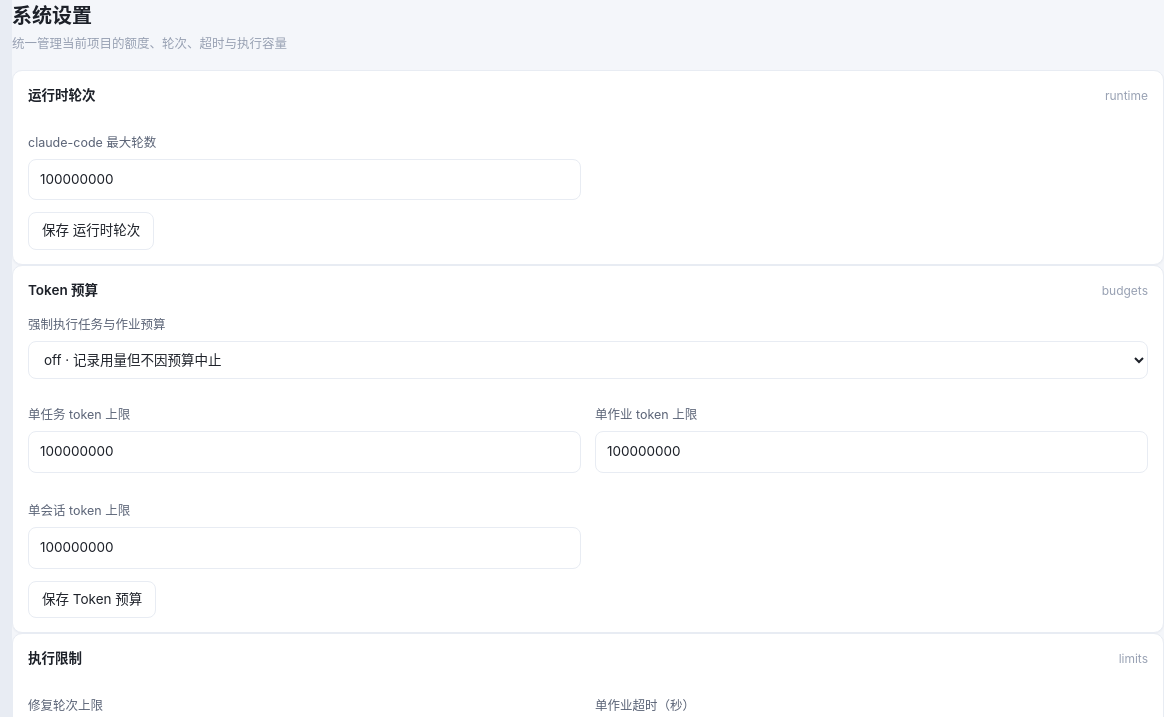
Scenario: 系统设置页 › keeps the server error visible when a save is rejected
Click the button "保存 Token 预算": (92, 599) top-left (28, 581), bottom-right (156, 618)
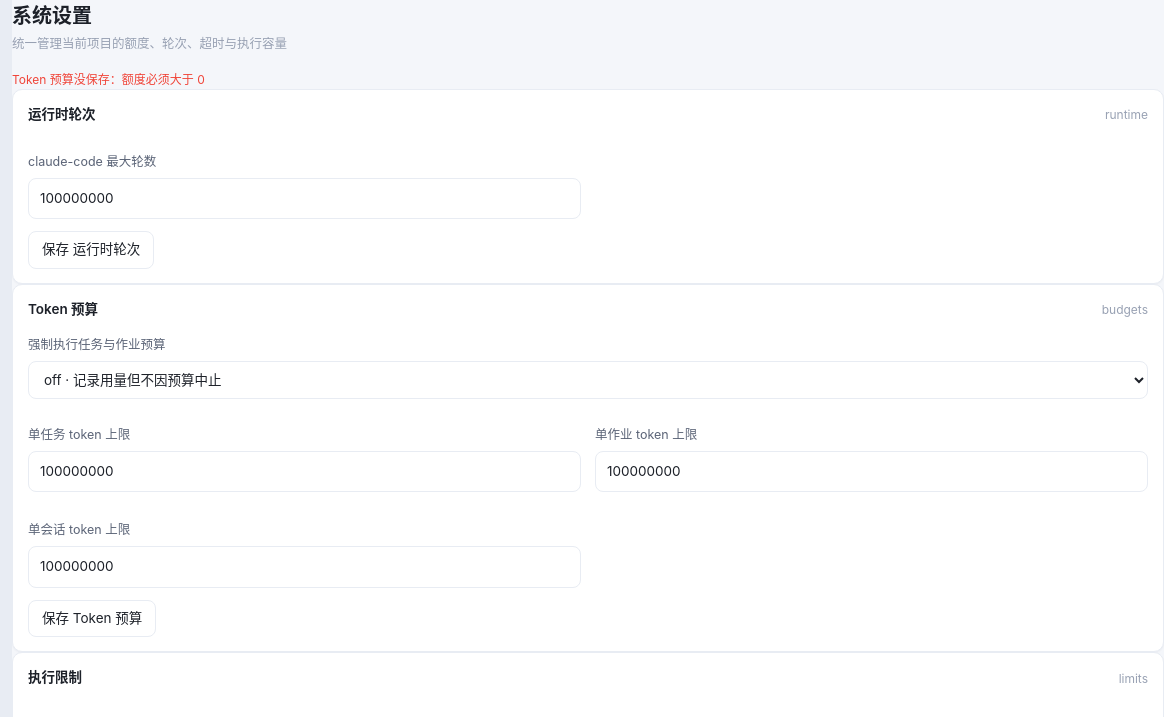
Now the text "Token 预算没保存：额度必须大于 0" is shown, box top-left (12, 72), bottom-right (205, 87)
